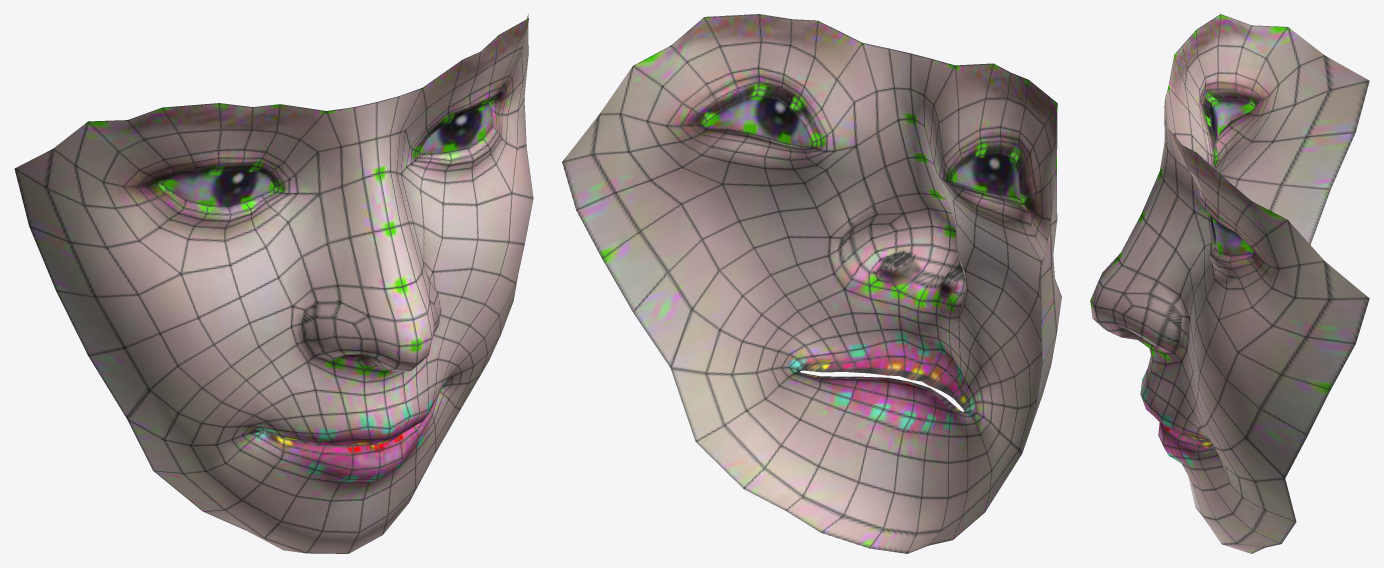
File: W_head_T05_BS.fbx
3 views of the same model, side by side, from view 1: azimuth 30°, elevation 25°; view 2: azimuth 150°, elevation 25°; view 3: azimuth 270°, elevation 25° (orthographic). The views are drawn at different scales.
Parts seen in each view (by area): view 1: W_head_T05_W_Head_T06; view 2: W_head_T05_W_Head_T06; view 3: W_head_T05_W_Head_T06.
Boxes of the visible parts, box(x1,y1,x2,y2) form: W_head_T05_W_Head_T06: box(14, 14, 533, 553); W_head_T05_W_Head_T06: box(562, 14, 1061, 553); W_head_T05_W_Head_T06: box(1090, 14, 1369, 553).
Bounding box in the file's own units: 14.4 × 13.92 × 7.81.
